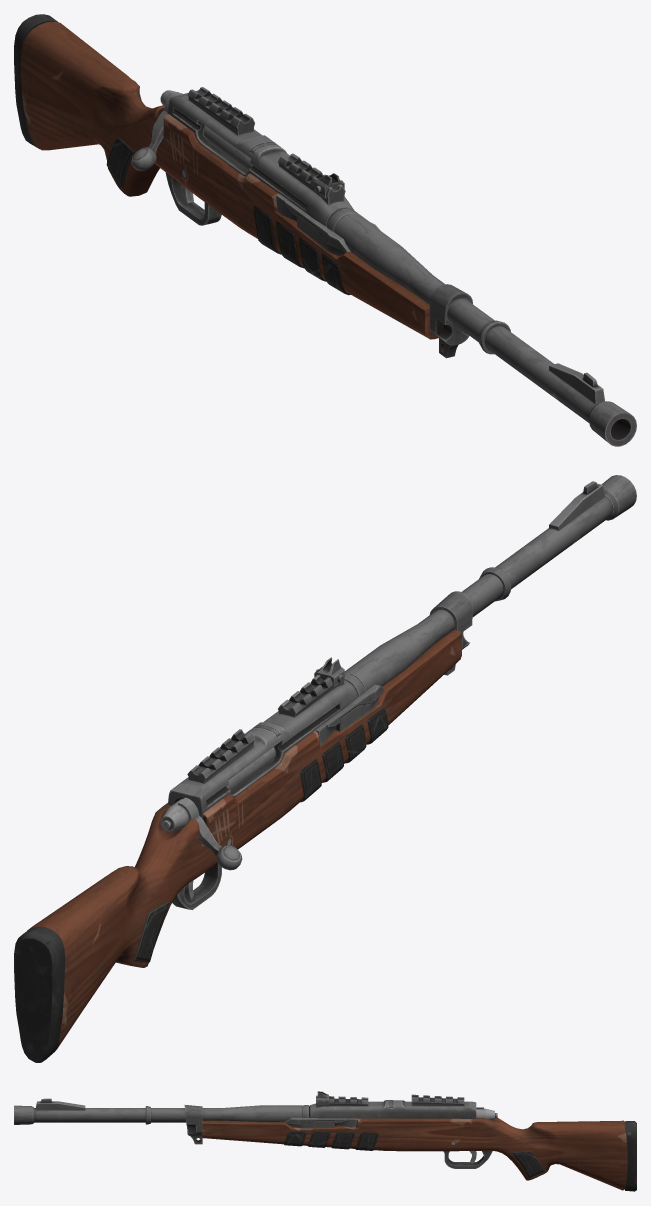
The model's file is hunter.glb.
The picture shows the model from 3 angles, top to bottom: view 1: azimuth 30°, elevation 25°; view 2: azimuth 150°, elevation 25°; view 3: azimuth 270°, elevation 25°; orthographic projection. The views are drawn at different scales.
Visible parts, largest first — view 1: SK_Old_Hunting_Rifle_LOD0; view 2: SK_Old_Hunting_Rifle_LOD0; view 3: SK_Old_Hunting_Rifle_LOD0.
Part boxes in pixels (x1,y1,x2,y2): SK_Old_Hunting_Rifle_LOD0: [14, 14, 636, 446]; SK_Old_Hunting_Rifle_LOD0: [14, 475, 636, 1062]; SK_Old_Hunting_Rifle_LOD0: [14, 1091, 636, 1191].
Bounding box in the file's own units: 0.0911 × 0.207 × 1.18.
Materials: 1 (1 with a texture image).
